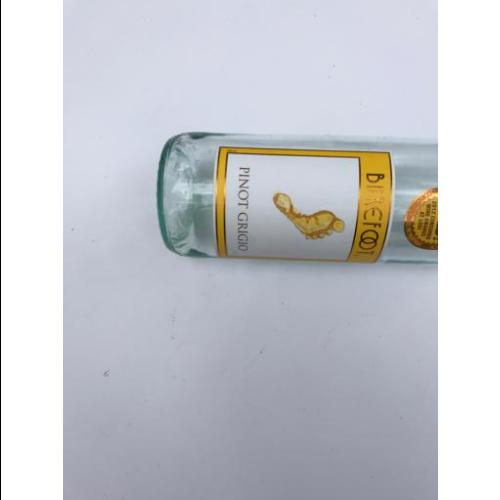glass: (161, 131, 438, 262)
